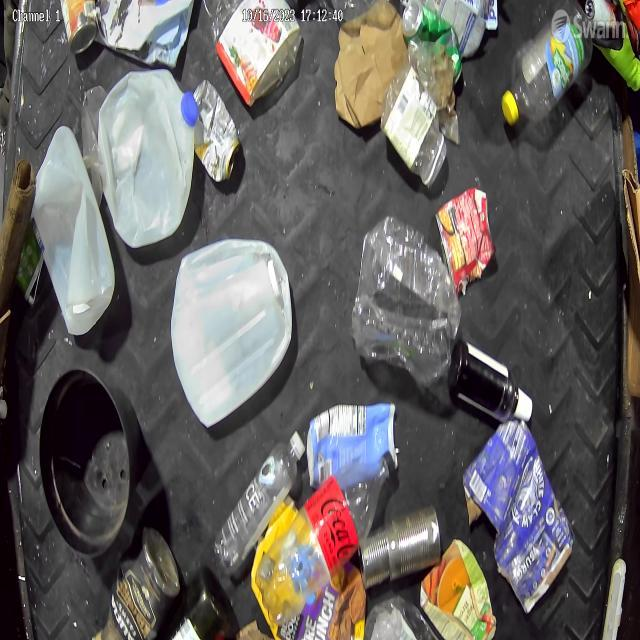can: (360, 512, 442, 594), (58, 3, 110, 65)
milk_jug: (168, 239, 296, 432), (28, 120, 118, 339), (100, 64, 203, 246)
plastic_bottle: (256, 438, 392, 624), (499, 0, 607, 130), (208, 436, 306, 576)
